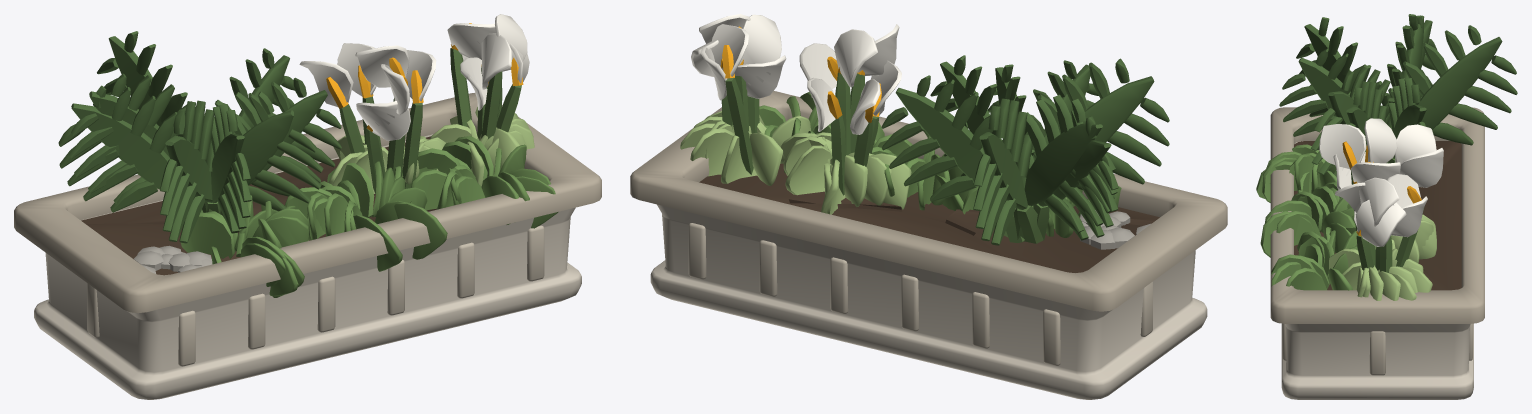
Rendered from bac_exotique.glb.
The picture shows the model from 3 angles, left to right: view 1: azimuth 30°, elevation 25°; view 2: azimuth 150°, elevation 25°; view 3: azimuth 270°, elevation 25°; orthographic projection. The views are drawn at different scales.
Visible parts, largest first — view 1: MXC_Maconnerie, MXC_Feuille_Fonce, MXC_Couronnement, MXC_Feuille_Moyen, MXC_Fl_Blanc, MXC_Nervures, MXC_Tige, MXC_Terre, MXC_Feuille_Tendre, MXC_Galets, MXC_Fl_Coeur; view 2: MXC_Maconnerie, MXC_Feuille_Fonce, MXC_Couronnement, MXC_Fl_Blanc, MXC_Feuille_Tendre, MXC_Terre, MXC_Nervures, MXC_Tige, MXC_Feuille_Moyen, MXC_Galets, MXC_Fl_Coeur; view 3: MXC_Feuille_Fonce, MXC_Couronnement, MXC_Maconnerie, MXC_Fl_Blanc, MXC_Feuille_Moyen, MXC_Terre, MXC_Feuille_Tendre, MXC_Tige, MXC_Nervures, MXC_Fl_Coeur.
Part boxes in pixels (<box>): MXC_Maconnerie: <box>34,134,581,399</box>; MXC_Feuille_Fonce: <box>58,31,341,243</box>; MXC_Couronnement: <box>14,93,601,313</box>; MXC_Feuille_Moyen: <box>181,136,558,297</box>; MXC_Fl_Blanc: <box>299,14,529,140</box>; MXC_Nervures: <box>87,225,544,366</box>; MXC_Tige: <box>200,48,521,213</box>; MXC_Terre: <box>81,136,436,275</box>; MXC_Feuille_Tendre: <box>328,106,534,193</box>; MXC_Galets: <box>134,245,212,273</box>; MXC_Fl_Coeur: <box>326,23,523,131</box>; MXC_Maconnerie: <box>650,204,1207,399</box>; MXC_Feuille_Fonce: <box>881,55,1169,245</box>; MXC_Couronnement: <box>630,91,1227,311</box>; MXC_Fl_Blanc: <box>691,14,901,134</box>; MXC_Feuille_Tendre: <box>680,111,911,214</box>; MXC_Terre: <box>699,163,1159,272</box>; MXC_Nervures: <box>688,223,1152,365</box>; MXC_Tige: <box>721,72,1049,243</box>; MXC_Feuille_Moyen: <box>759,92,1121,237</box>; MXC_Galets: <box>1080,210,1150,249</box>; MXC_Fl_Coeur: <box>720,26,881,122</box>; MXC_Feuille_Fonce: <box>1279,14,1517,176</box>; MXC_Couronnement: <box>1270,107,1484,323</box>; MXC_Maconnerie: <box>1281,141,1473,399</box>; MXC_Fl_Blanc: <box>1319,118,1443,246</box>; MXC_Feuille_Moyen: <box>1256,144,1357,290</box>; MXC_Terre: <box>1294,141,1461,290</box>; MXC_Feuille_Tendre: <box>1329,214,1436,300</box>; MXC_Tige: <box>1350,158,1424,272</box>; MXC_Nervures: <box>1282,323,1472,375</box>; MXC_Fl_Coeur: <box>1342,141,1421,236</box>.
Bounding box in the file's own units: 1.46 × 0.7886 × 0.8055.
